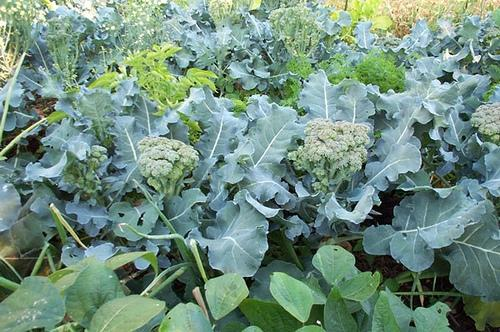broccoli: (288, 118, 374, 194), (469, 102, 500, 146), (86, 145, 108, 174), (146, 160, 173, 177)
